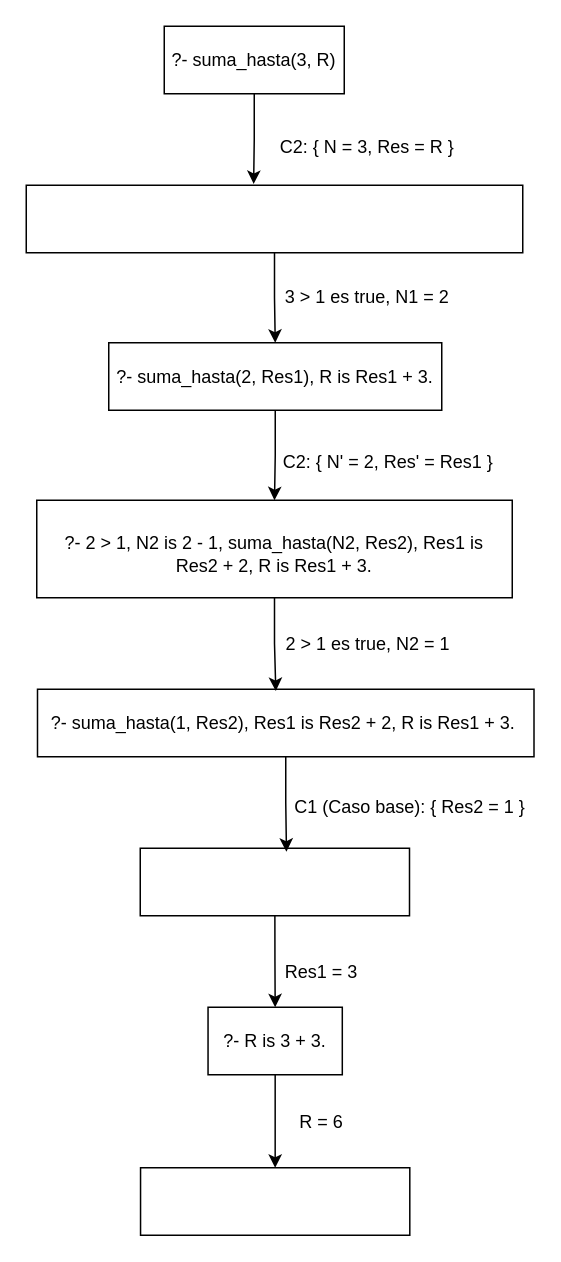
Image size: 561x1262. Some labels were removed from this diagram. Here are the shapes that lost their labels. From the top down, the centre of each, then its label:
(x=274, y=218): ?- 3 > 1, N1 is 3 - 1, suma_hasta(N1, Res1), R is Res1 + 3
(x=274, y=881): ?- Res1 is 1 + 2, R is Res1 + 3.
(x=274, y=1200): [ ] (Éxito / True) Respuesta final: R = 6
